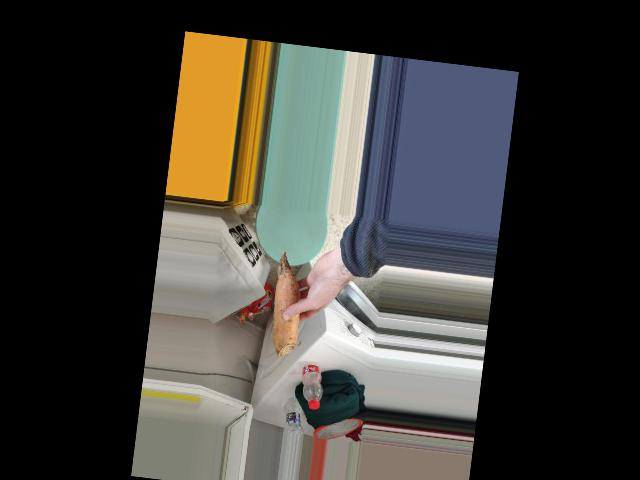sweet_potato: (260, 253, 313, 363)
